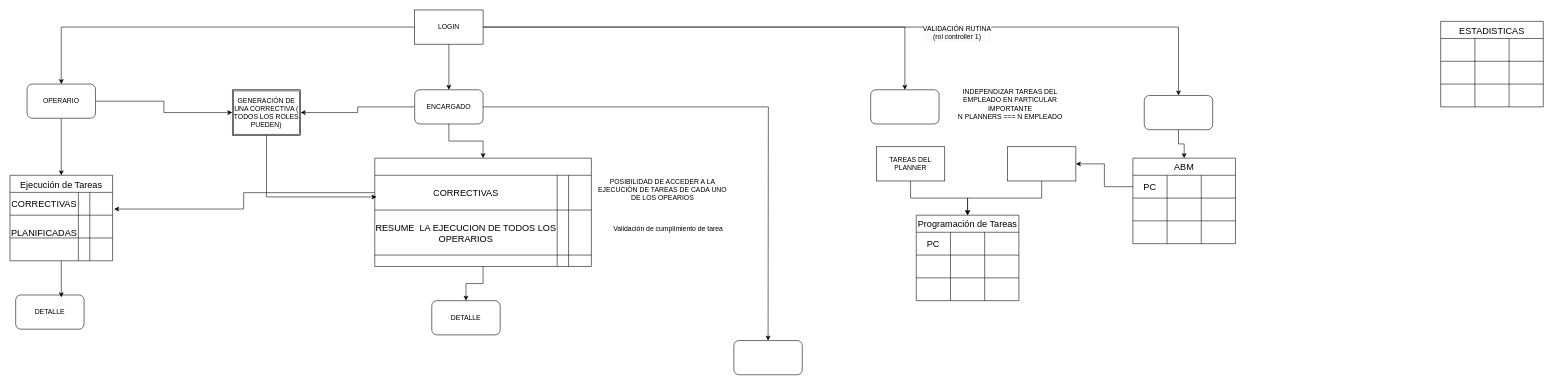
The diagram is 1553 pixels wide and 385 high, and some of its shapes have lost their labels. Here are the shapes that lost their labels. From the top down, the box of each, then its label:
(870, 89, 939, 124): SUPERVISOR
(1144, 95, 1213, 130): RRHH
(1007, 146, 1076, 181): DOTACIONES DE PERSONAL
(374, 158, 591, 266): Programación a Ejecutar
(733, 340, 802, 375): VALIDACIÓN DIARIA DE ROLES (POR TURNO)
